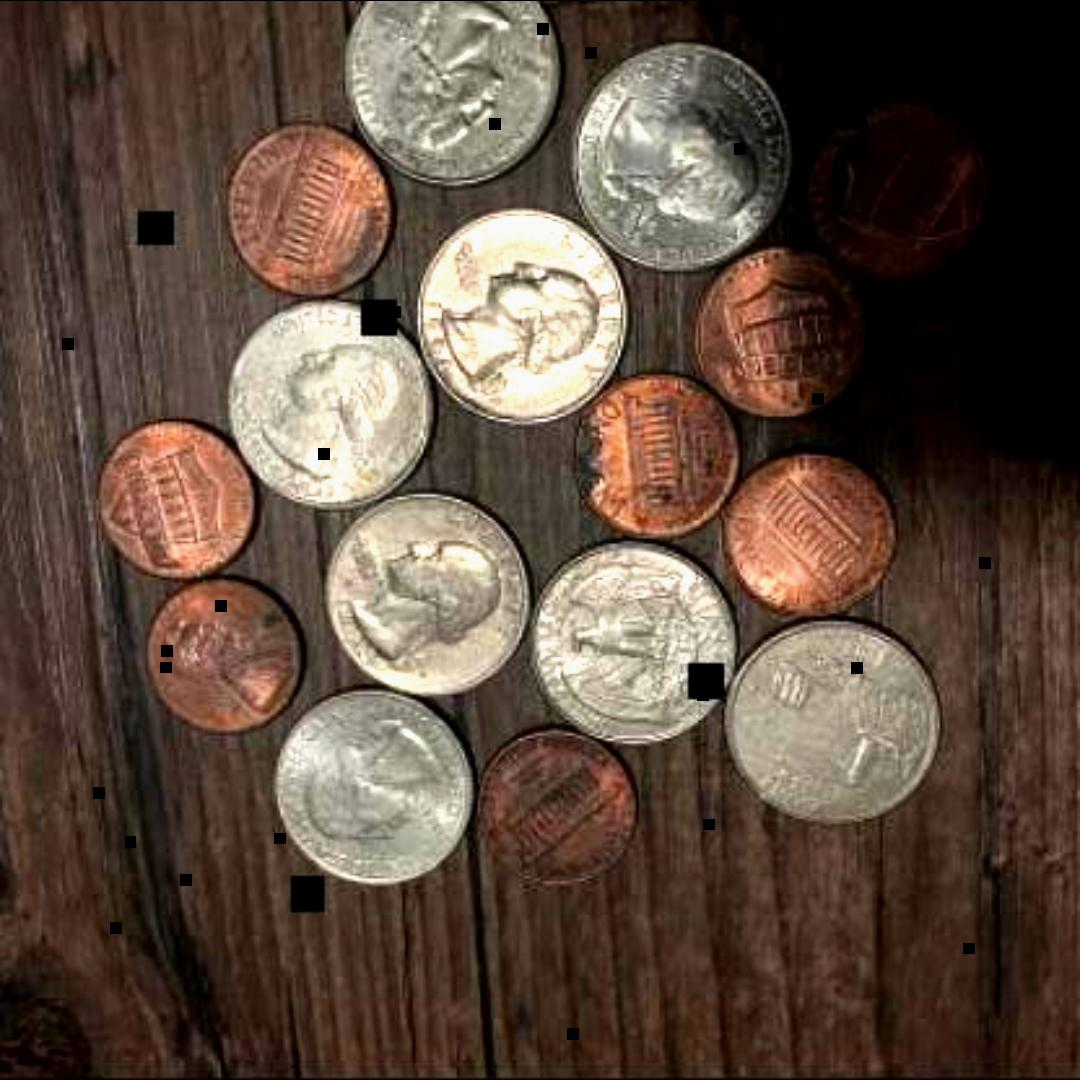Penny: (809, 101, 993, 298), (692, 234, 866, 441), (224, 113, 396, 305), (720, 454, 898, 620), (568, 376, 738, 548), (132, 577, 310, 737), (96, 424, 262, 584), (471, 731, 637, 889)
Quarter: (567, 45, 790, 283), (416, 203, 623, 431), (224, 296, 432, 516), (722, 624, 942, 832), (526, 538, 738, 750), (322, 487, 530, 699), (343, 1, 563, 193), (270, 694, 476, 892)
